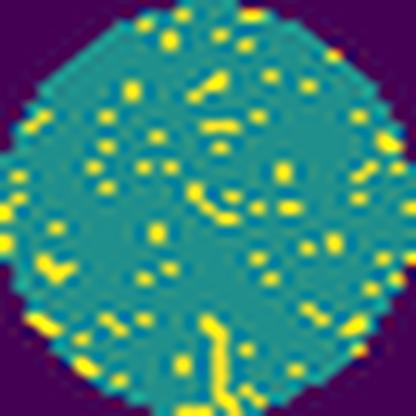Scratch: (199, 310, 246, 416), (185, 181, 246, 232)
